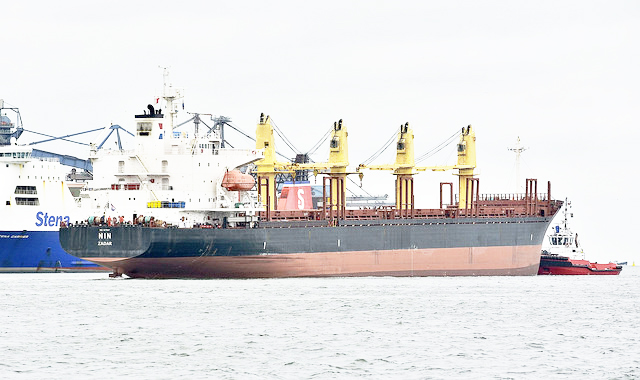bulk carrier: (59, 57, 555, 276)
tug_boat: (542, 200, 626, 276)
